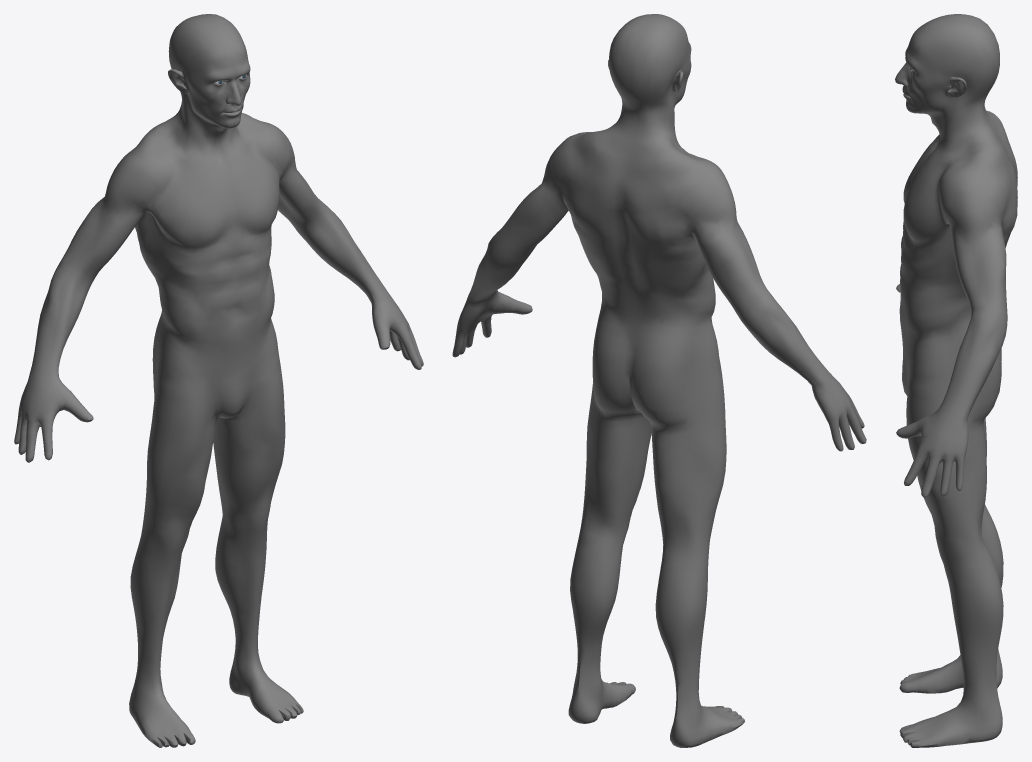
3 views of the same model, side by side, from view 1: azimuth 30°, elevation 25°; view 2: azimuth 150°, elevation 25°; view 3: azimuth 270°, elevation 25° (orthographic).
Parts seen in each view (by area): view 1: New_Body_copy:ZBrushPolyMesh3D; view 2: New_Body_copy:ZBrushPolyMesh3D; view 3: New_Body_copy:ZBrushPolyMesh3D.
Part boxes in pixels (bbox=[...]): New_Body_copy:ZBrushPolyMesh3D: bbox=[14, 14, 423, 747]; New_Body_copy:ZBrushPolyMesh3D: bbox=[452, 14, 866, 747]; New_Body_copy:ZBrushPolyMesh3D: bbox=[895, 14, 1017, 747].
Size of the model in its own units: 37.85 by 63.31 by 10.13.
Materials: 2 (1 with a texture image).
